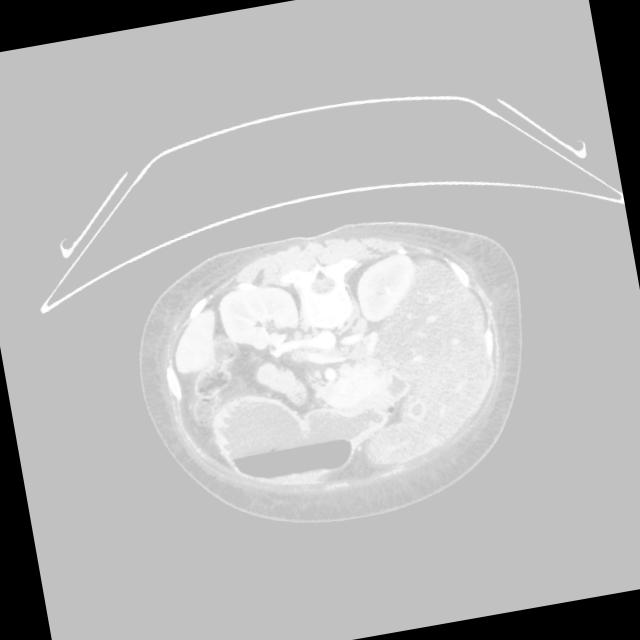NORMAL: (126, 211, 554, 539)
